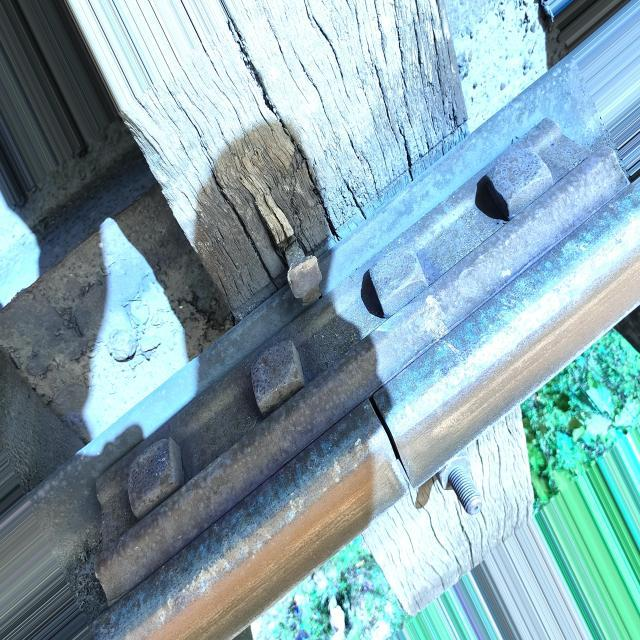Good Joint: (95, 117, 632, 605)
